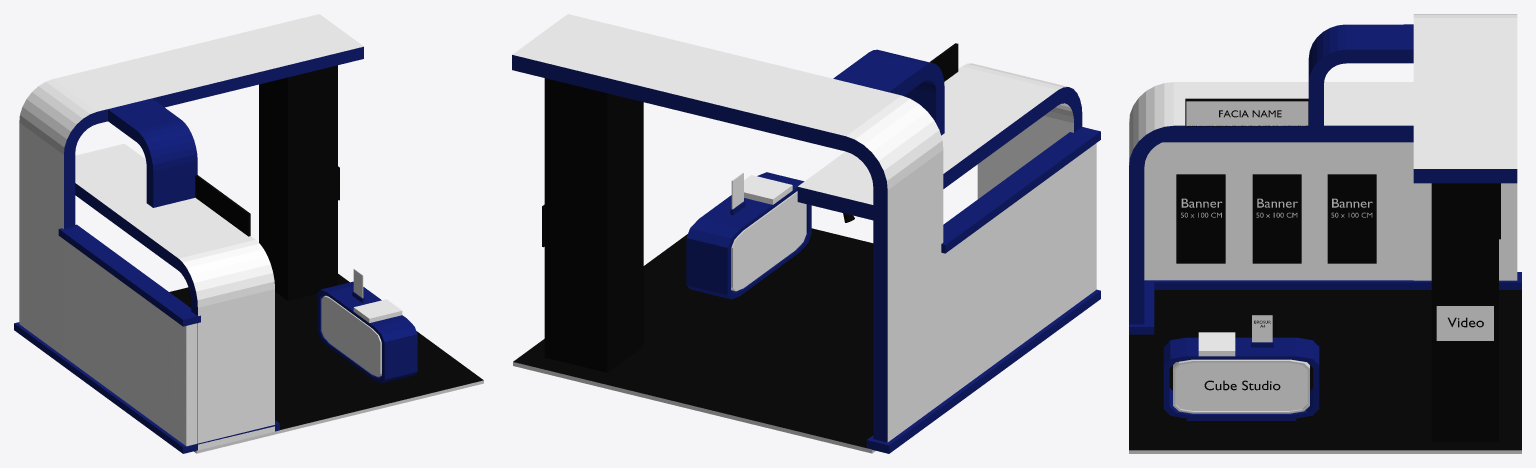
File: BoothBTP.fbx
3 views of the same model, side by side, from view 1: azimuth 30°, elevation 25°; view 2: azimuth 150°, elevation 25°; view 3: azimuth 270°, elevation 25° (orthographic). The views are drawn at different scales.
Parts seen in each view (by area): view 1: Plane.066, Plane.064, Cube.052, Cube.051, Plane.067, Cube.050, Plane.065, Plane.009; view 2: Plane.066, Plane.067, Cube.052, Cube.051, Plane.064, Cube.050, Plane.065, Plane.009; view 3: Plane.067, Cube.052, Plane.066, Cube.051, Plane.064, Cube.050, Plane.065, Plane.062, Plane.063, Plane.061, Plane.009, Cube.049 (+1 smaller).
Boxes of the visible parts, left/top/right/bottom form: Plane.066: left=14, top=14, right=363, bottom=362; Plane.064: left=75, top=143, right=274, bottom=450; Cube.052: left=58, top=224, right=279, bottom=453; Cube.051: left=259, top=65, right=337, bottom=300; Plane.067: left=169, top=274, right=483, bottom=453; Cube.050: left=317, top=281, right=417, bottom=383; Plane.065: left=108, top=98, right=197, bottom=207; Plane.009: left=195, top=175, right=250, bottom=236; Plane.066: left=512, top=14, right=949, bottom=453; Plane.067: left=513, top=228, right=875, bottom=453; Cube.052: left=941, top=127, right=1100, bottom=412; Cube.051: left=544, top=78, right=643, bottom=372; Plane.064: left=797, top=63, right=1082, bottom=220; Cube.050: left=686, top=172, right=811, bottom=299; Plane.065: left=833, top=49, right=944, bottom=135; Plane.009: left=930, top=43, right=958, bottom=81; Plane.067: left=1129, top=290, right=1521, bottom=453; Cube.052: left=1129, top=140, right=1417, bottom=334; Plane.066: left=1413, top=14, right=1521, bottom=289; Cube.051: left=1431, top=183, right=1498, bottom=441; Plane.064: left=1129, top=82, right=1413, bottom=324; Cube.050: left=1163, top=332, right=1319, bottom=420; Plane.065: left=1308, top=24, right=1413, bottom=139; Plane.062: left=1252, top=174, right=1301, bottom=263; Plane.063: left=1176, top=174, right=1225, bottom=263; Plane.061: left=1327, top=174, right=1376, bottom=263; Plane.009: left=1185, top=98, right=1308, bottom=127; Cube.049: left=1434, top=304, right=1495, bottom=342.
Size of the model in its own units: 414 by 322 by 400.
